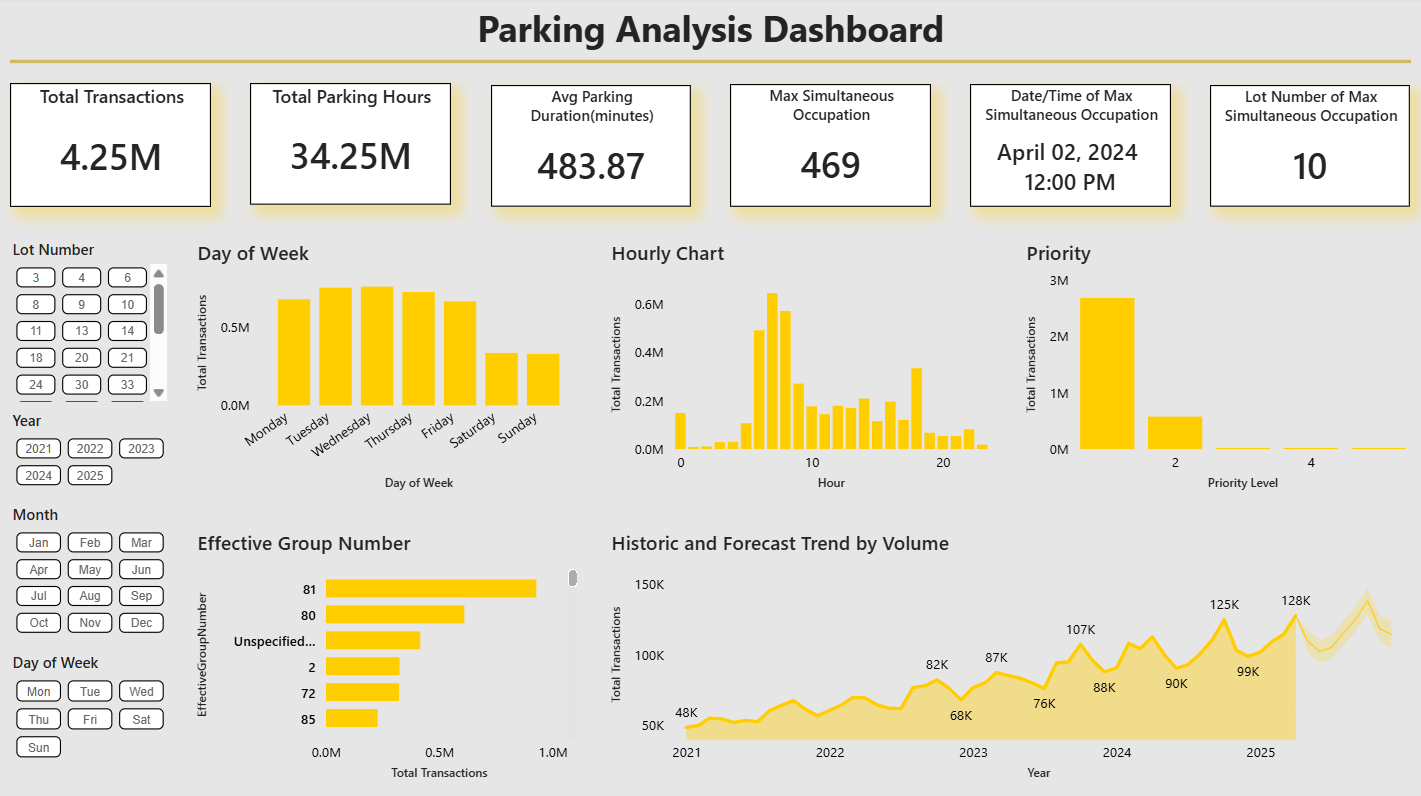

This screenshot's page, from the dashboard's own definition file:
{"tool":"powerbi","page":{"name":"Page 1","canvas":[1280,720],"ordinal":0},"visuals":[{"type":"card","title":"Total Transactions","fields":{"Values":["CardTransaction.Total Transactions"]},"box":[12.4,77.1,180.4,110.7],"z":0},{"type":"card","title":"Avg Parking Duration(minutes)","fields":{"Values":["CardTransaction.Average Parking Duration (Minutes)"]},"box":[443.1,78.4,179.1,109.5],"z":1000},{"type":"card","title":"Total Parking Hours","fields":{"Values":["CardTransaction.Total Parking Hours"]},"box":[227.8,77.1,180.4,109.5],"z":2000},{"type":"clusteredColumnChart","title":"Hourly Chart","fields":{"Category":["CardTransaction.Hour"],"Y":["CardTransaction.Total Transactions"]},"box":[546.1,216.8,349.6,230.1],"z":3000},{"type":"columnChart","title":"Day of Week","fields":{"Category":["DateTable.DayOfWeekName"],"Y":["CardTransaction.Total Transactions"]},"box":[175.4,216.9,349.6,230],"z":4000},{"type":"lineChart","title":"Historic and Forecast Trend by Volume","fields":{"Y":["CardTransaction.Total Transactions"],"Category":["DateTable.Date.Variation.Date Hierarchy.Year","DateTable.Date.Variation.Date Hierarchy.Quarter","DateTable.Date.Variation.Date Hierarchy.Month","DateTable.Date.Variation.Date Hierarchy.Day"]},"box":[546.1,476.4,721.5,230.1],"z":5000},{"type":"ChicletSlicer1448559807354","title":"Year","fields":{"Category":["DateTable.Year"]},"box":[10,370,148,93.3],"z":6000},{"type":"ChicletSlicer1448559807354","title":"Lot Number","fields":{"Category":["Lots.LotNumber"]},"box":[10,216.4,148,152],"z":7000},{"type":"ChicletSlicer1448559807354","title":"Month","fields":{"Category":["DateTable.MonthAbbrev"]},"box":[10,454,148,130],"z":8000},{"type":"ChicletSlicer1448559807354","title":"Day of Week","fields":{"Category":["DateTable.WeekdayAbbrev"]},"box":[10,587,148,114],"z":9000},{"type":"card","title":"Max Simultaneous Occupation","fields":{"Values":["AggregatedOccupancy.Max Simultaneous Occupancy"]},"box":[657.3,77.8,180,110],"z":10000},{"type":"card","title":"Date/Time of Max Simultaneous Occupation","fields":{"Values":["AggregatedOccupancy.DateTime of Max Simultaneous Occupancy"]},"box":[872.2,77.8,180,110],"z":11000},{"type":"textbox","box":[12.4,0,1255.2,57.2],"z":12000},{"type":"card","title":"Lot Number of Max Simultaneous Occupation","fields":{"Values":["AggregatedOccupancy.LotNumber of Max Simultaneous Occupancy"]},"box":[1087.2,78.4,179.1,109.5],"z":13000},{"type":"barChart","title":"Effective Group Number","fields":{"Y":["CardTransaction.Total Transactions"],"Category":["CardTransaction.EffectiveGroupNumber"]},"box":[175.4,476.4,350,230.1],"z":14000},{"type":"clusteredColumnChart","title":"Priority","fields":{"Category":["CardTransaction.Priority"],"Y":["CardTransaction.Total Transactions"]},"box":[918,216.8,349.6,230.1],"z":15000},{"type":"shape","box":[12.5,0.9,1254.6,113.7],"z":16000}]}

Visuals, with their boxes in screenshot pixels (x1, y1, x2, y2), scaled from the page's 1280x720 canvas onto the 1421x796 screenshot:
"Total Transactions" card: l=14, t=85, r=214, b=208
"Avg Parking Duration(minutes)" card: l=492, t=87, r=691, b=208
"Total Parking Hours" card: l=253, t=85, r=453, b=206
"Hourly Chart" clusteredColumnChart: l=606, t=240, r=994, b=494
"Day of Week" columnChart: l=195, t=240, r=583, b=494
"Historic and Forecast Trend by Volume" lineChart: l=606, t=527, r=1407, b=781
"Year" ChicletSlicer1448559807354: l=11, t=409, r=175, b=512
"Lot Number" ChicletSlicer1448559807354: l=11, t=239, r=175, b=407
"Month" ChicletSlicer1448559807354: l=11, t=502, r=175, b=646
"Day of Week" ChicletSlicer1448559807354: l=11, t=649, r=175, b=775
"Max Simultaneous Occupation" card: l=730, t=86, r=930, b=208
"Date/Time of Max Simultaneous Occupation" card: l=968, t=86, r=1168, b=208
textbox: l=14, t=0, r=1407, b=63
"Lot Number of Max Simultaneous Occupation" card: l=1207, t=87, r=1406, b=208
"Effective Group Number" barChart: l=195, t=527, r=583, b=781
"Priority" clusteredColumnChart: l=1019, t=240, r=1407, b=494
shape: l=14, t=1, r=1407, b=127
